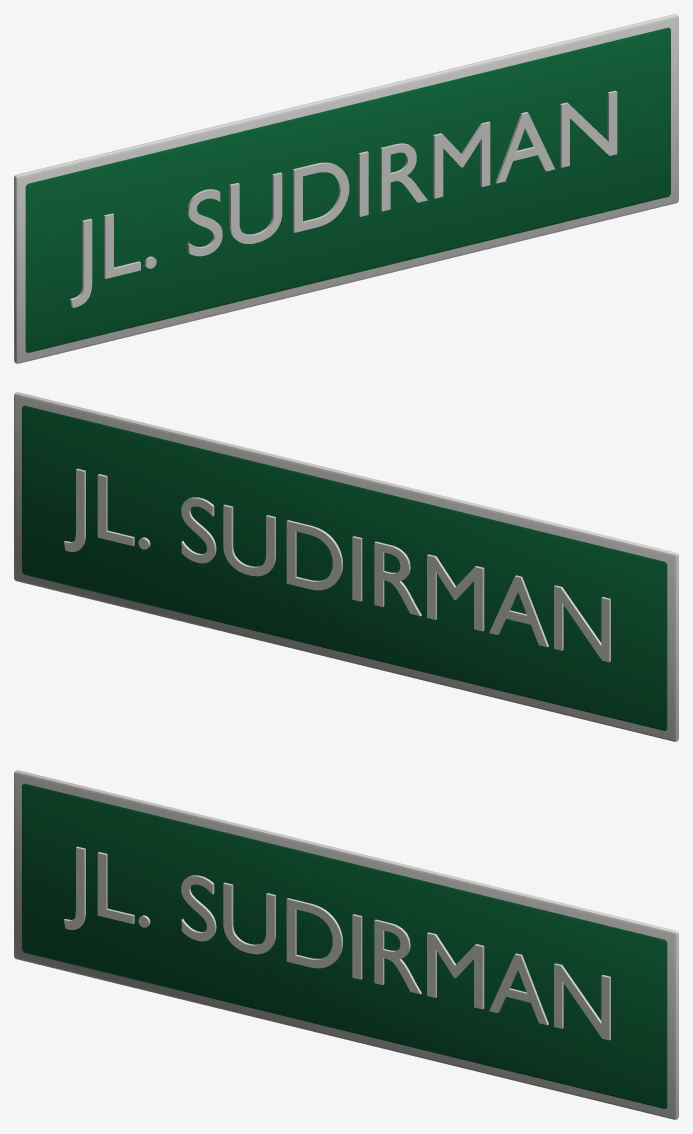
Rendered from StreetName_sudirman.fbx.
3 views of the same model, one above another, from view 1: azimuth 30°, elevation 25°; view 2: azimuth 150°, elevation 25°; view 3: azimuth 330°, elevation 25° (orthographic).
Visible parts, largest first — view 1: StreetName_sudirman_Mesh; view 2: StreetName_sudirman_Mesh; view 3: StreetName_sudirman_Mesh.
Boxes of the visible parts, box(x1,y1,x2,y2) form: StreetName_sudirman_Mesh: box(14, 14, 678, 363); StreetName_sudirman_Mesh: box(14, 392, 678, 741); StreetName_sudirman_Mesh: box(14, 770, 678, 1119).
Size of the model in its own units: 1.29 by 0.35 by 0.026.
